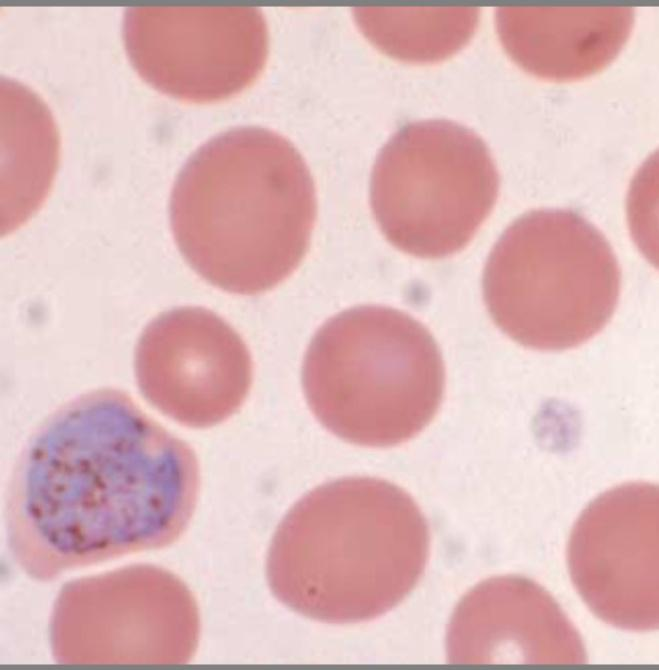Infected: (10, 385, 201, 584)
Uninfected: (166, 123, 318, 293), (265, 478, 431, 621), (301, 305, 448, 446), (481, 208, 618, 348), (370, 119, 501, 259), (51, 565, 198, 670), (565, 480, 659, 634), (134, 305, 252, 426), (123, 5, 270, 102), (447, 574, 589, 670), (496, 6, 635, 80)
